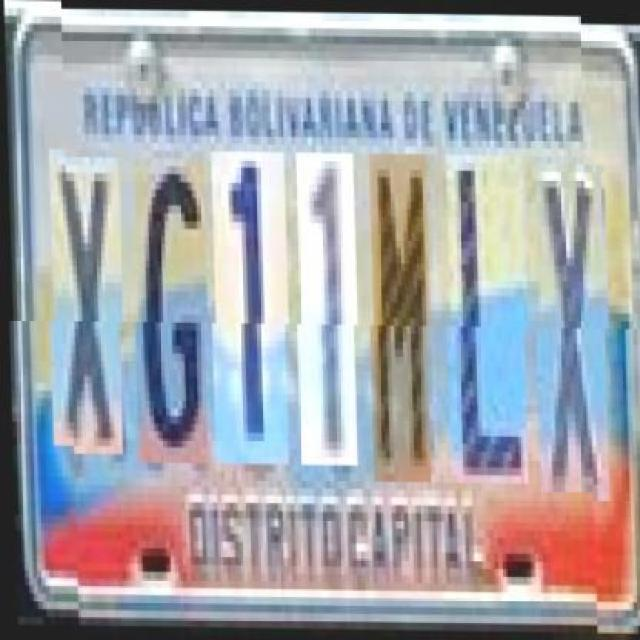1: (210, 150, 290, 464), (295, 150, 359, 464)
g: (133, 159, 210, 463)
l: (445, 153, 530, 482)
m: (369, 152, 433, 480)
x: (534, 155, 611, 490), (48, 157, 124, 454)
